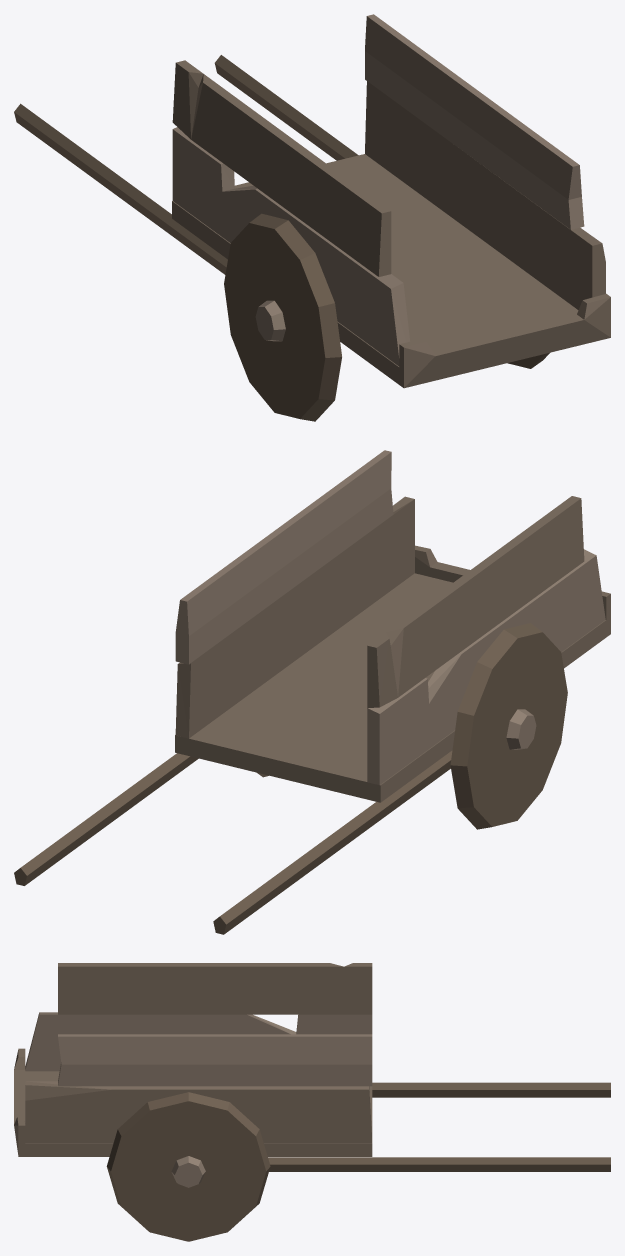
Rendered from cart_1.glb.
3 views of the same model, one above another, from view 1: azimuth 30°, elevation 25°; view 2: azimuth 150°, elevation 25°; view 3: azimuth 270°, elevation 25° (orthographic). The views are drawn at different scales.
Parts seen in each view (by area): view 1: cart_1; view 2: cart_1; view 3: cart_1.
Boxes of the visible parts, x1,y1,x2,y2 form: cart_1: [14, 14, 610, 421]; cart_1: [14, 450, 610, 934]; cart_1: [14, 963, 610, 1241].
Size of the model in its own units: 0.6213 by 0.5918 by 1.6.
Materials: 1 (1 with a texture image).
